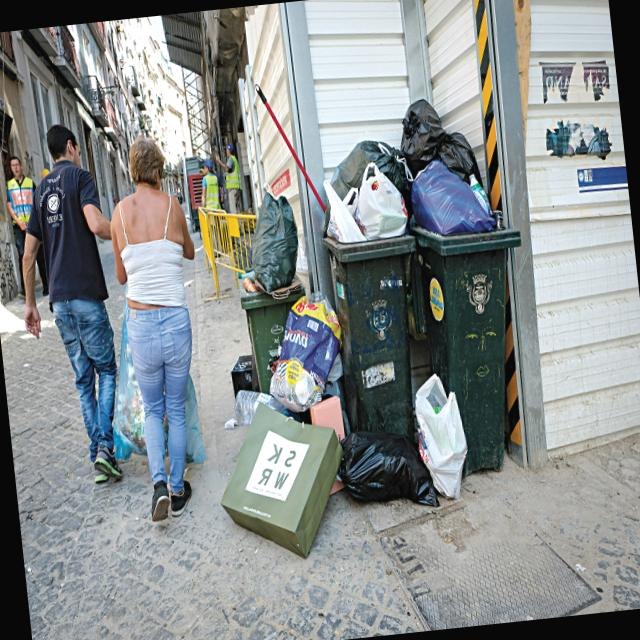garbage: (170, 80, 549, 540)
